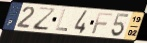2: (15, 6, 37, 30)
4: (73, 10, 89, 36)
5: (110, 12, 131, 38)
F: (90, 12, 114, 36)
L: (54, 9, 68, 32)
Z: (32, 6, 57, 32)
